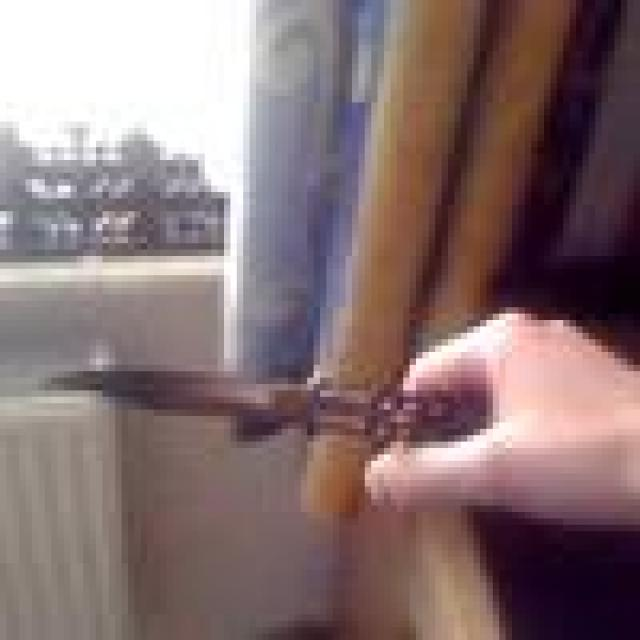knife: (45, 372, 474, 434)
